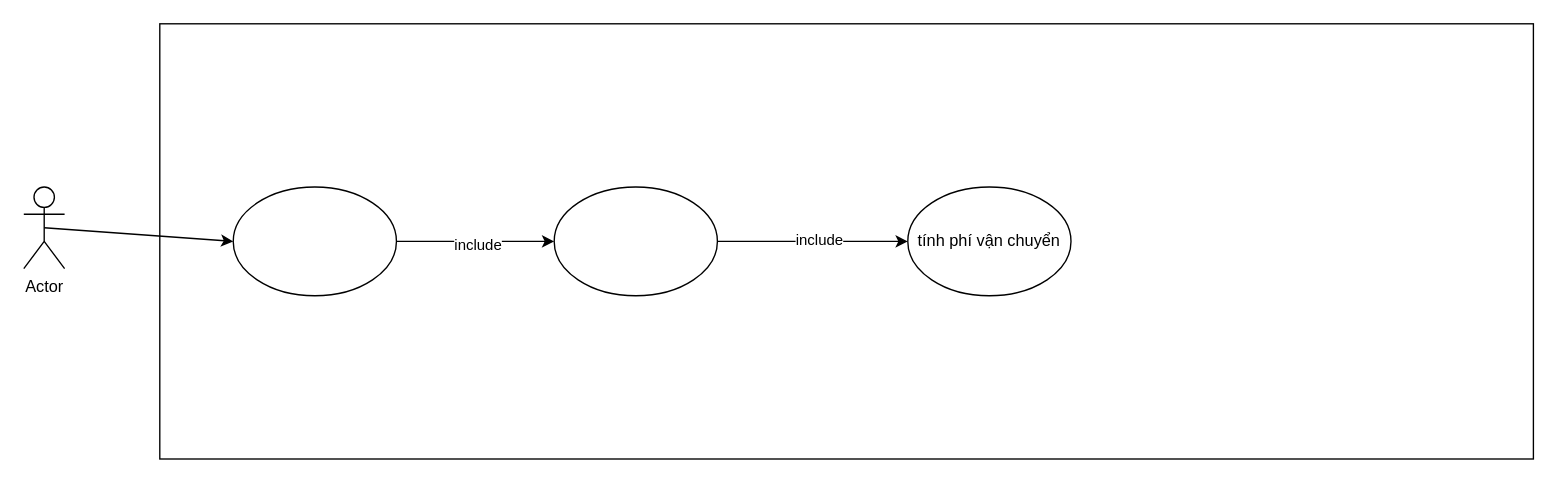
Some shapes in this 1557 by 483 pixel diagram are drawn without their labels. The shapes that lost their labels are listed below. From the top down, each one's centre as x and y in pixels, then its label:
the point at 314,241: đặt hàng
the point at 635,241: kiểm tra giỏ hàng
